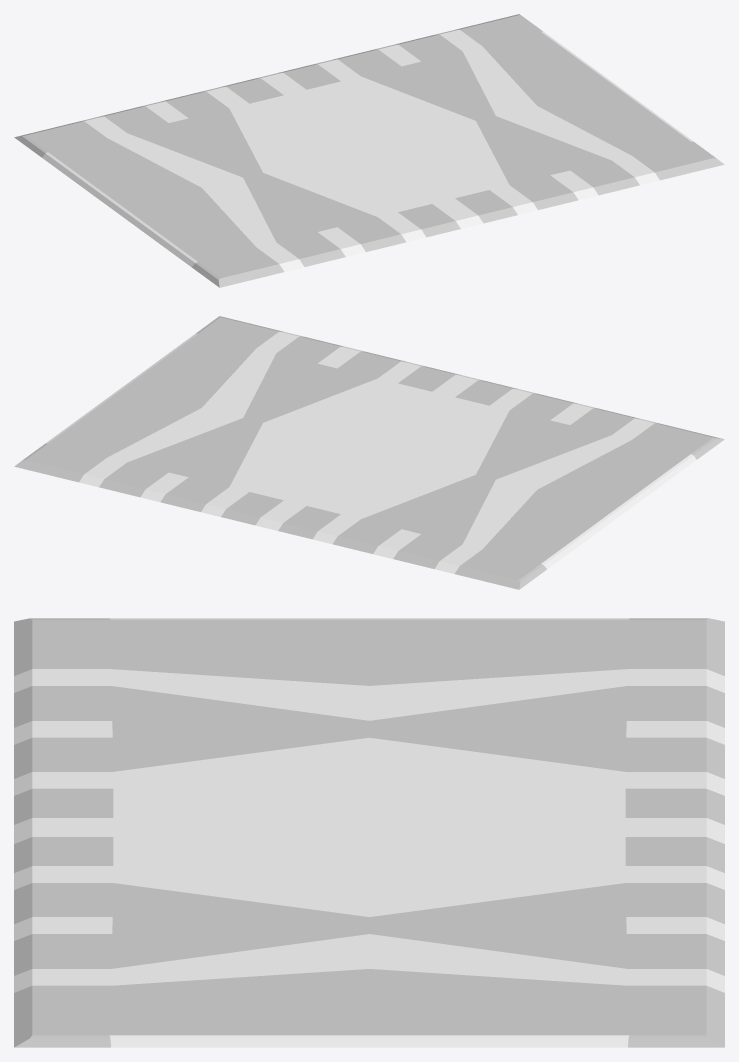
File: RugWhite.fbx
3 views of the same model, one above another, from view 1: azimuth 30°, elevation 25°; view 2: azimuth 150°, elevation 25°; view 3: azimuth 270°, elevation 25° (orthographic). The views are drawn at different scales.
Visible parts, largest first — view 1: RugWhite; view 2: RugWhite; view 3: RugWhite.
Boxes of the visible parts, bbox=[...] form: RugWhite: bbox=[14, 14, 724, 287]; RugWhite: bbox=[14, 316, 724, 589]; RugWhite: bbox=[14, 618, 724, 1047].
Size of the model in its own units: 271 by 2.13 by 191.
